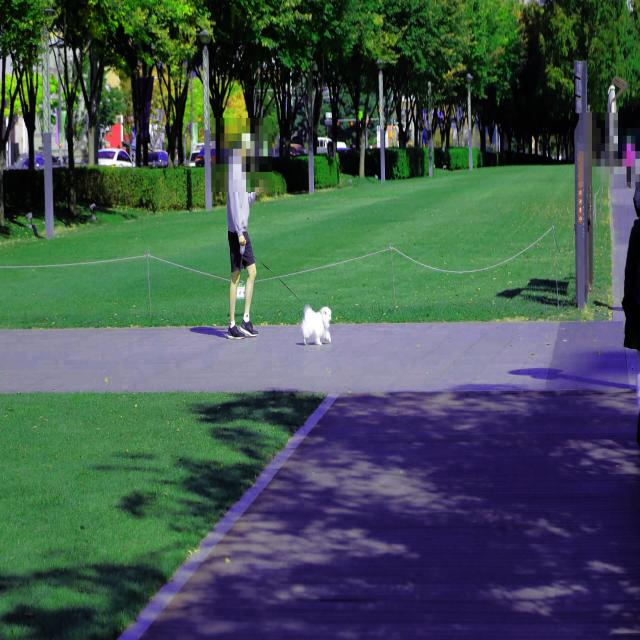Leashed_Dog: (243, 243, 333, 348)
